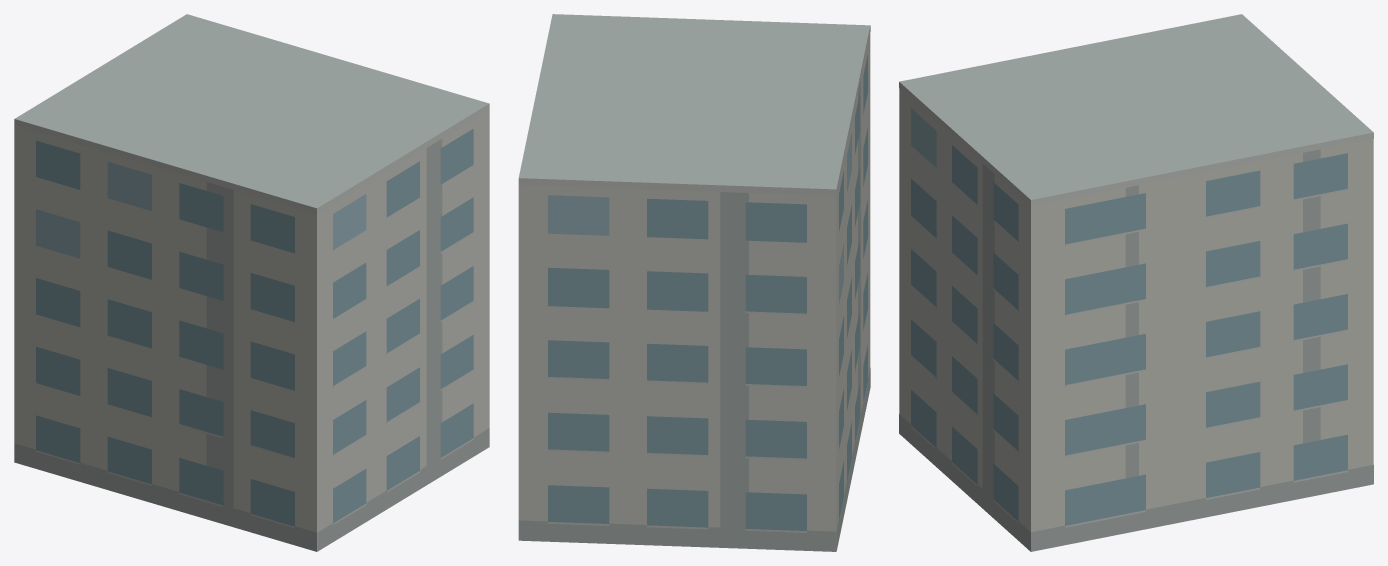
Rendered from survey-upis-32981490.glb.
The picture shows the model from 3 angles, left to right: view 1: azimuth 30°, elevation 25°; view 2: azimuth 150°, elevation 25°; view 3: azimuth 270°, elevation 25°; orthographic projection. The views are drawn at different scales.
Visible parts, largest first — view 1: survey-upis-32981490.tmp; view 2: survey-upis-32981490.tmp; view 3: survey-upis-32981490.tmp.
Part boxes in pixels (x1,y1,x2,y2): survey-upis-32981490.tmp: (14,14,489,551); survey-upis-32981490.tmp: (518,14,870,551); survey-upis-32981490.tmp: (899,14,1373,551).
Bounding box in the file's own units: 15.09 × 13.3 × 16.27.
